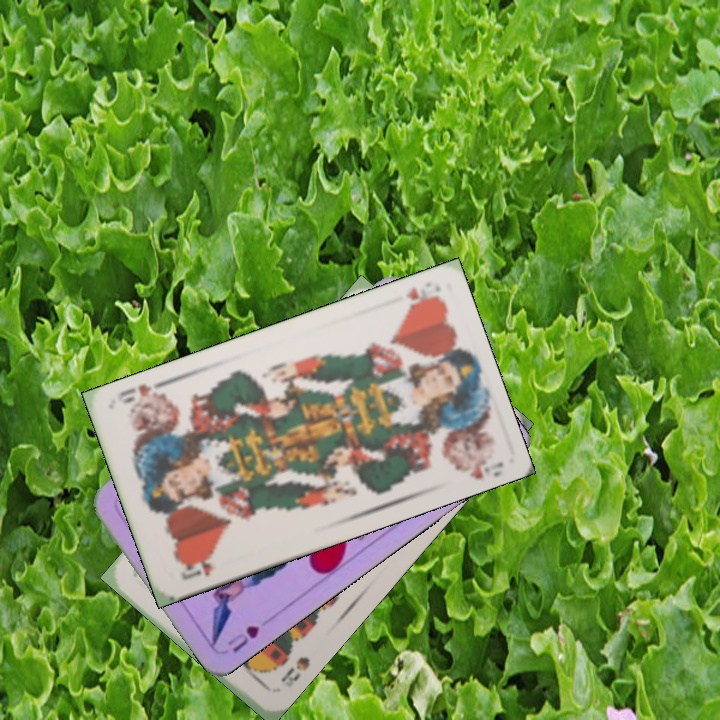HO: (177, 550, 219, 583), (401, 282, 442, 312)
HU: (223, 621, 262, 656)
S8: (277, 652, 313, 690)
